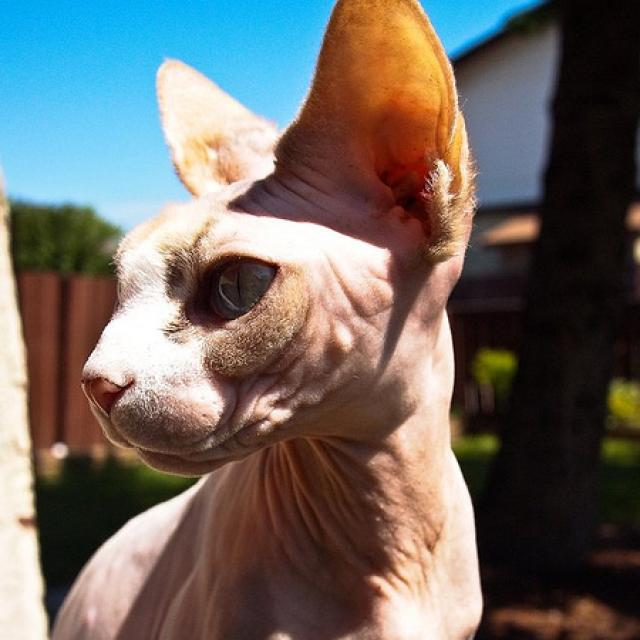Sphynx: (30, 0, 488, 640)
